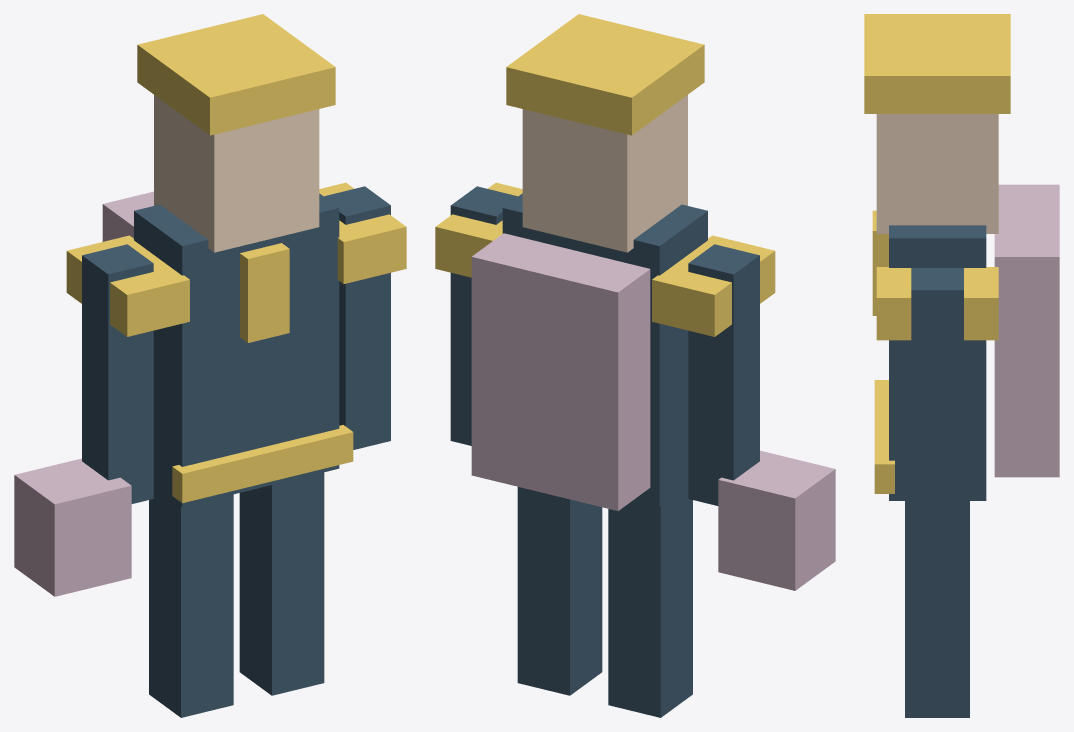
Rendered from 08_pax_holloway_oracle_from_anomaly.glb.
3 renders of one model, left to right at view 1: azimuth 30°, elevation 25°; view 2: azimuth 150°, elevation 25°; view 3: azimuth 270°, elevation 25°, orthographic.
Visible parts, largest first — view 1: Pax Holloway, Oracle from Anomaly; view 2: Pax Holloway, Oracle from Anomaly; view 3: Pax Holloway, Oracle from Anomaly.
Part boxes in pixels (x1,y1,x2,y2): Pax Holloway, Oracle from Anomaly: (14, 14, 406, 717); Pax Holloway, Oracle from Anomaly: (435, 14, 835, 717); Pax Holloway, Oracle from Anomaly: (864, 14, 1059, 717).
Bounding box in the file's own units: 0.9571 × 1.67 × 0.4617.
